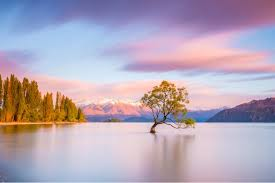mountain: (4, 75, 89, 128), (209, 92, 275, 125)
sea: (3, 120, 275, 181)
sky: (2, 1, 275, 121)
tree: (138, 79, 200, 138)
